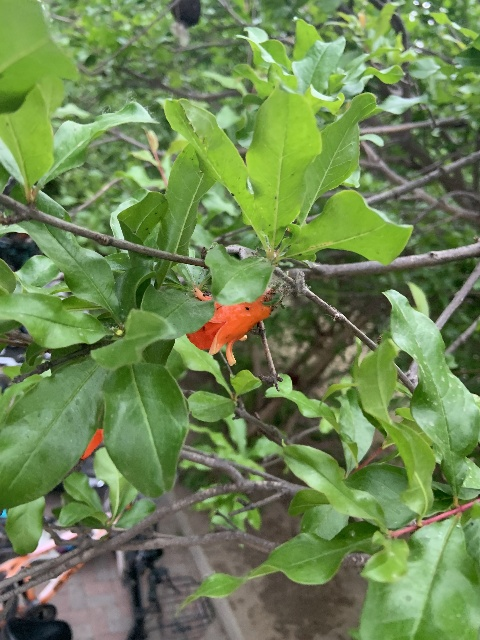flower: (185, 286, 272, 365)
